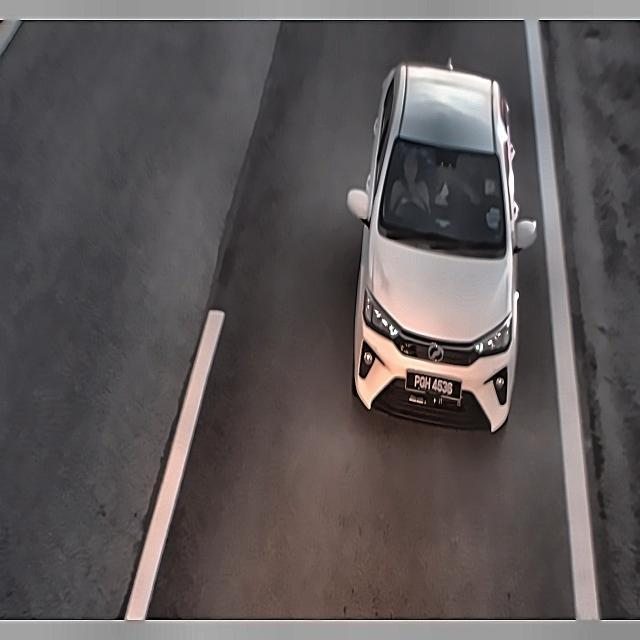car: (406, 364, 464, 410)
